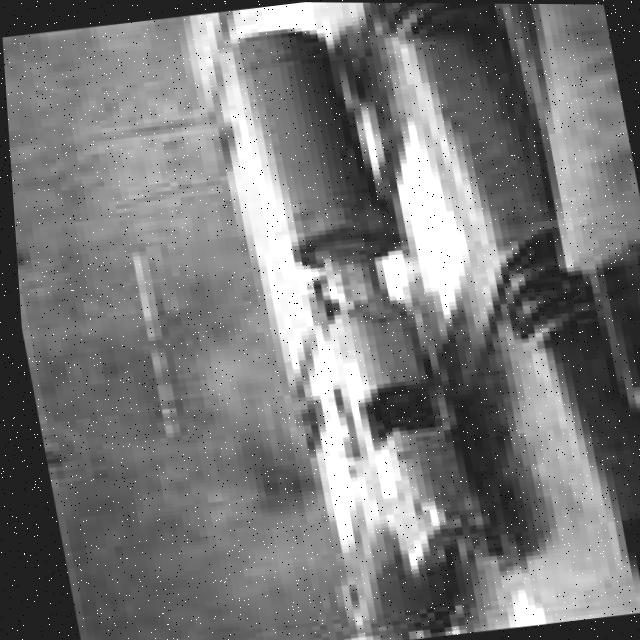pistol: (210, 9, 530, 640)
